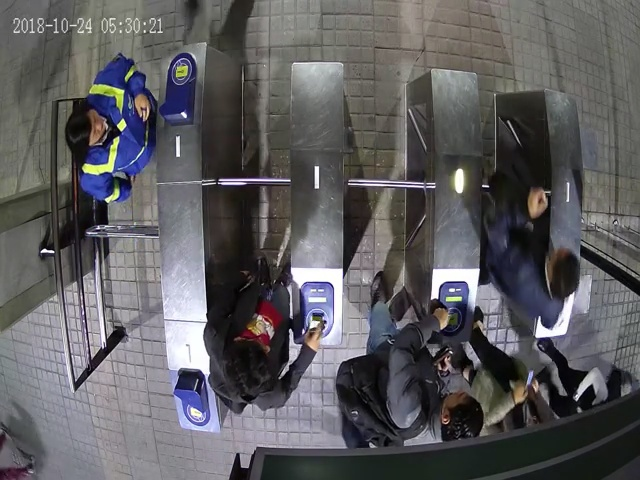Chaleco_azul: (65, 52, 157, 204)
